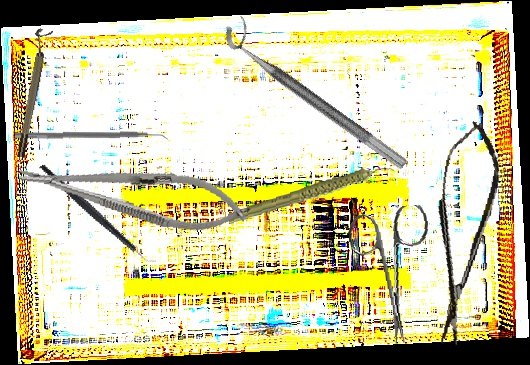Chopper: (38, 137, 160, 290)
Fixation Ring: (218, 12, 419, 172), (9, 27, 54, 159)
Handpiece: (225, 164, 398, 226)
Iris Scissors: (346, 203, 442, 349)
Micro Scissor: (414, 117, 509, 350)
Needle Holder: (14, 146, 251, 241)
Spatula Surgical: (14, 129, 169, 146)
